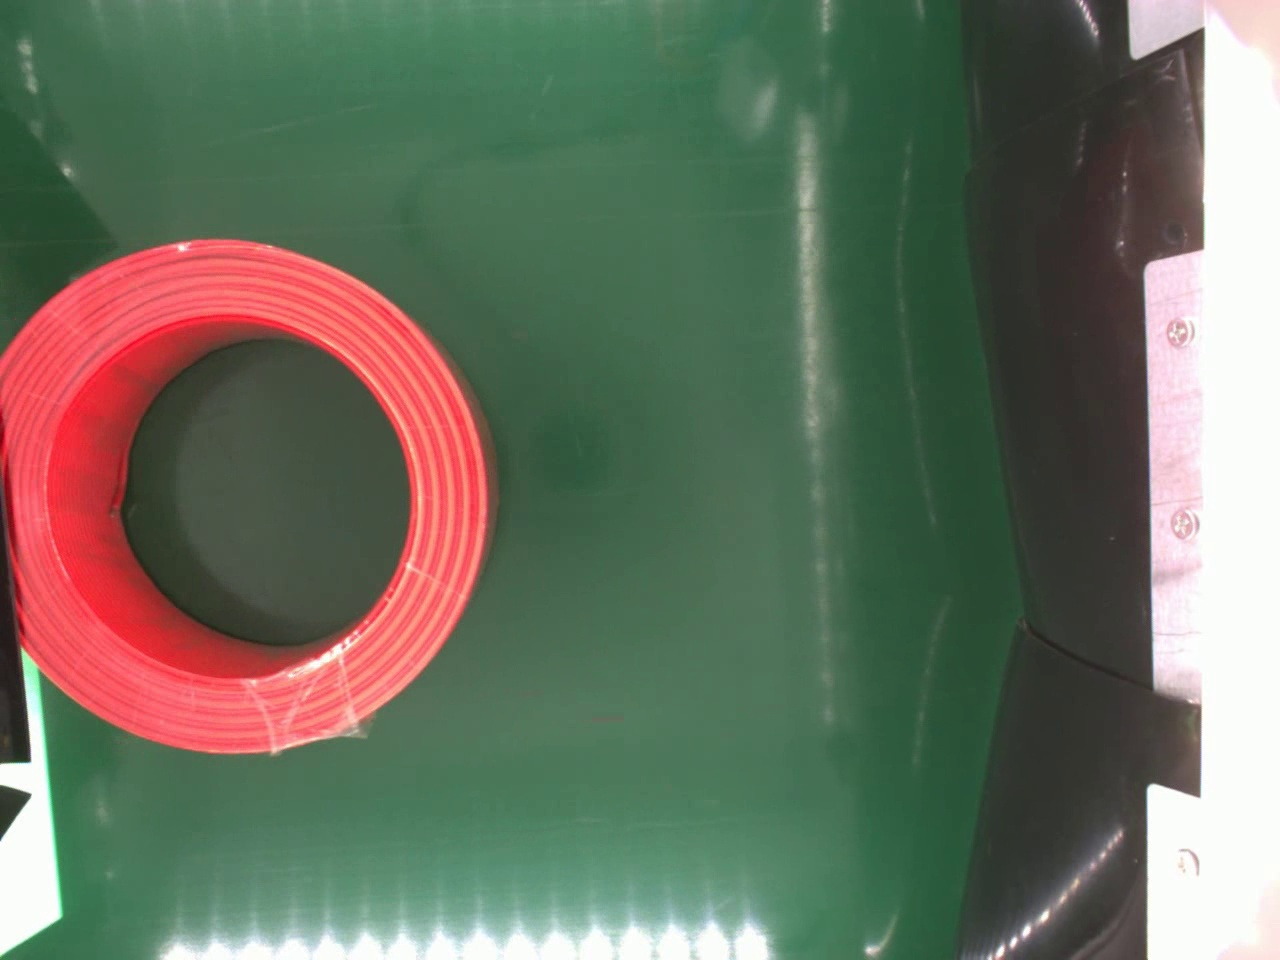red: (0, 236, 500, 757)
